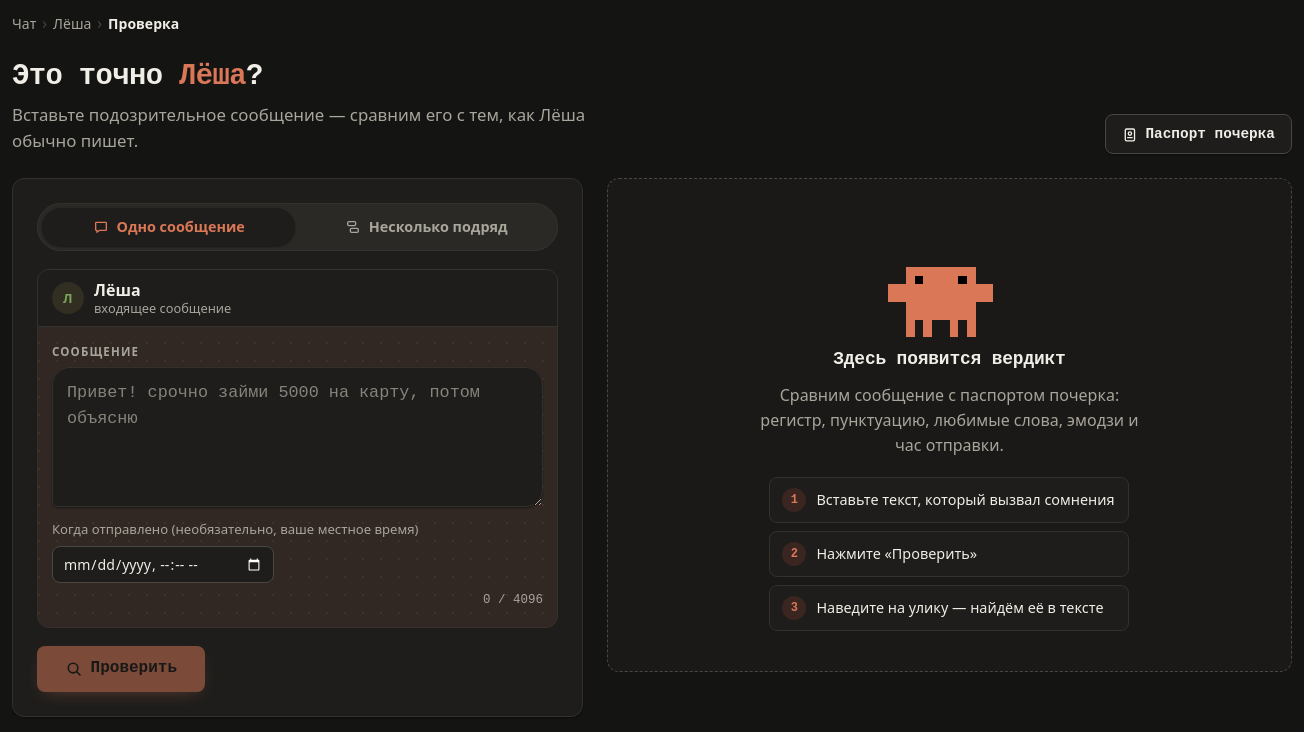
Test: автор без данных: «мало данных», без шкалы
In the text box labelled "Сообщение": (297,437) 52,367 -> 543,507, type "привет"
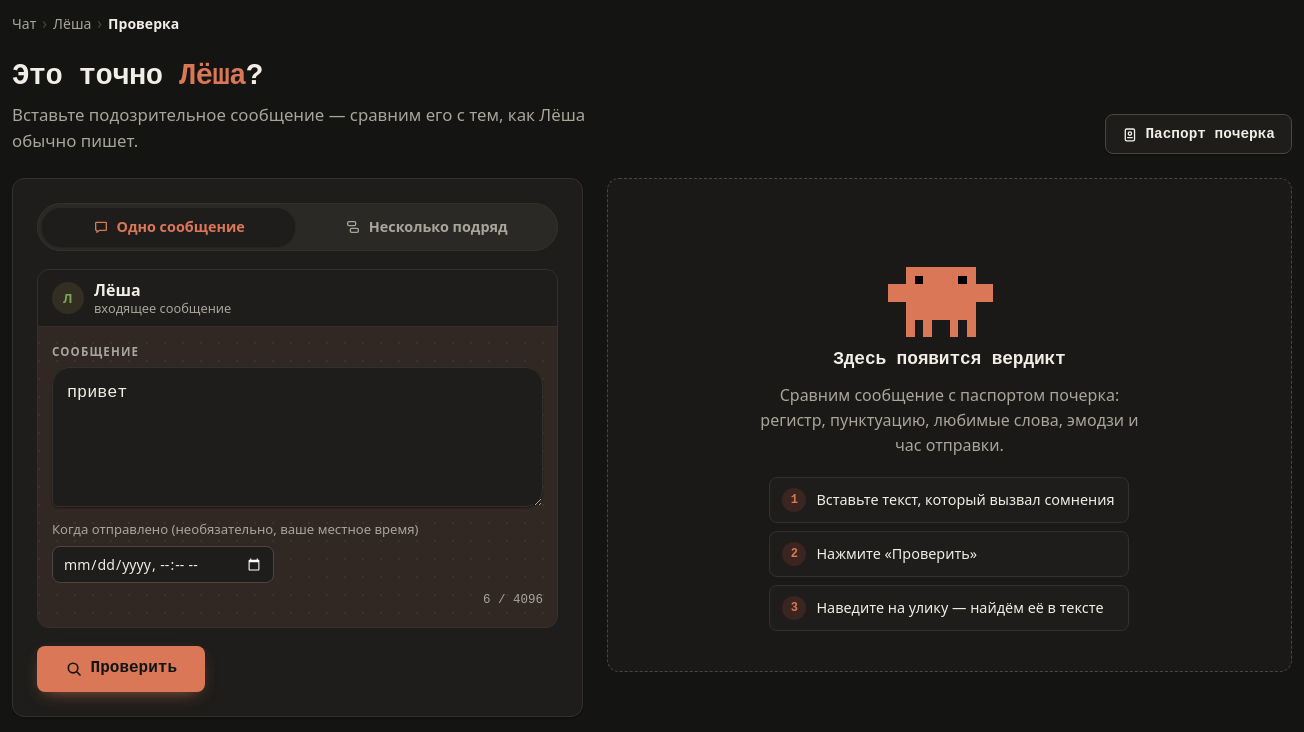
Click the button "Проверить": (121,669) 37,646 -> 205,692
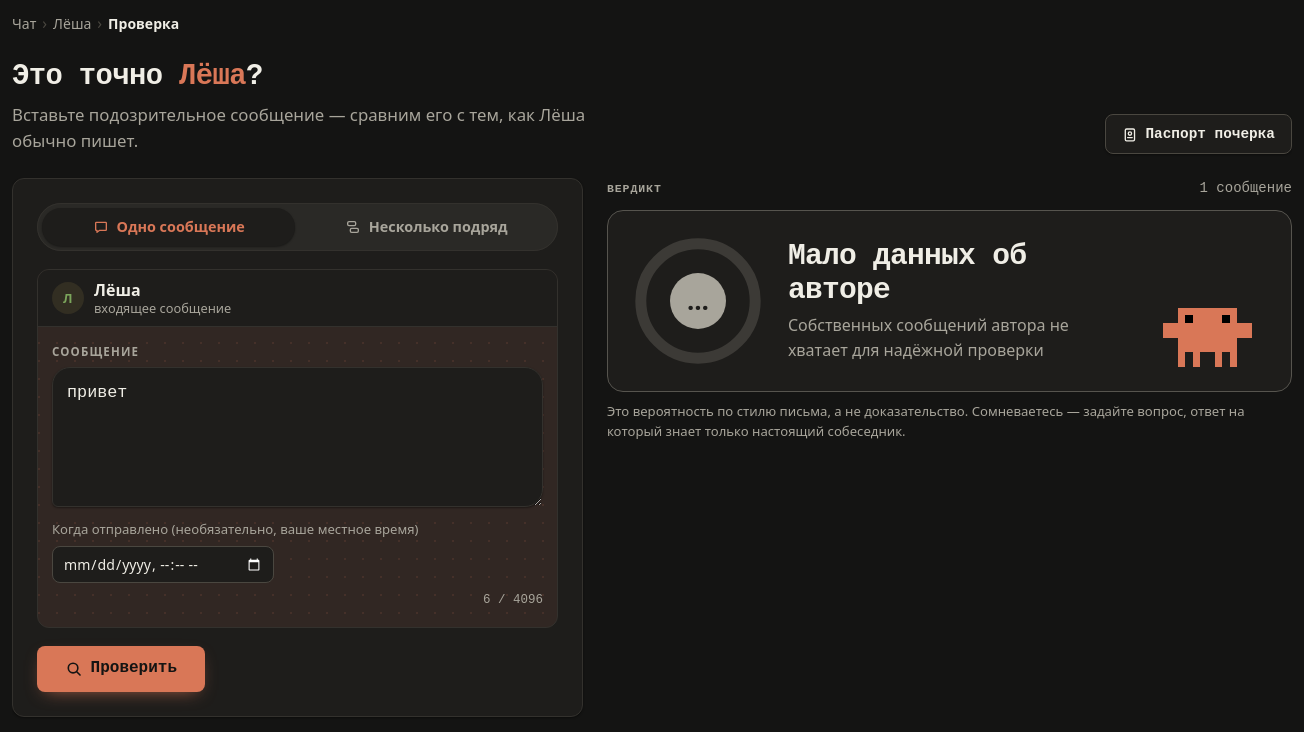
expect the text "Мало данных об авторе" is shown: met, box 788,239 -> 1026,307
